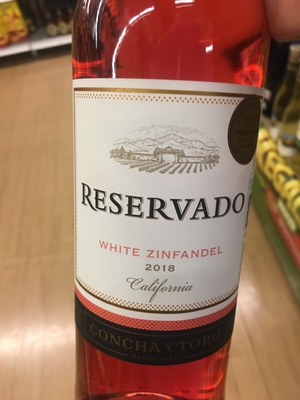reservado white zinfandel: (59, 8, 263, 400)
